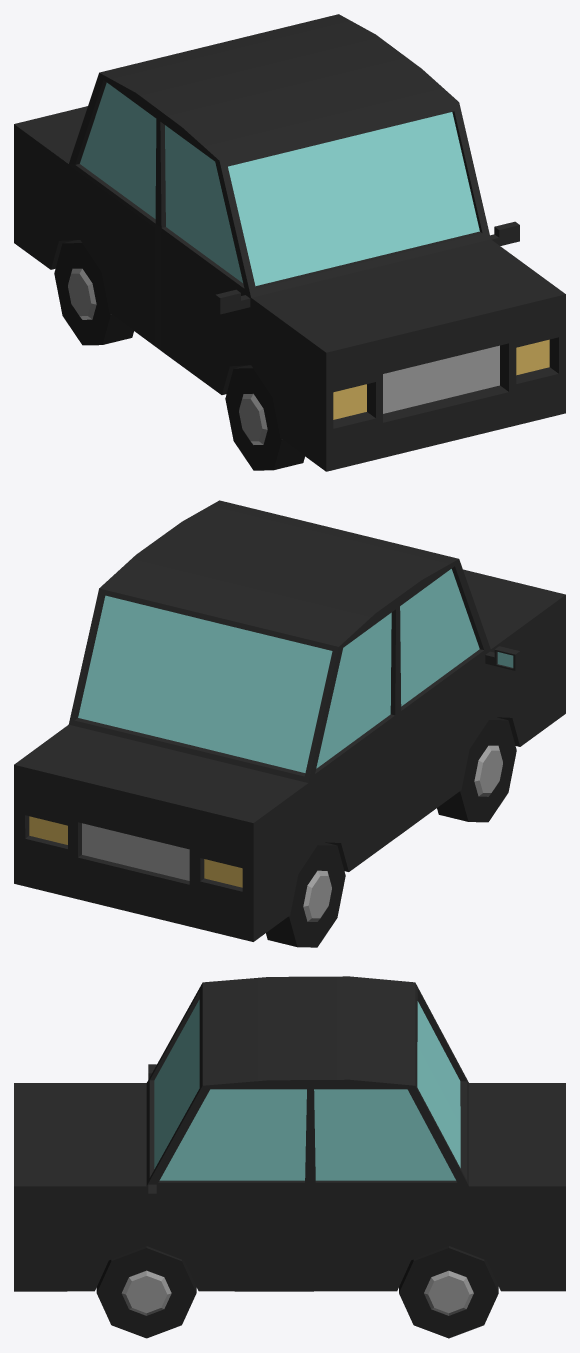
The model's file is Car_Black.fbx.
3 views of the same model, one above another, from view 1: azimuth 30°, elevation 25°; view 2: azimuth 150°, elevation 25°; view 3: azimuth 270°, elevation 25° (orthographic). The views are drawn at different scales.
Parts seen in each view (by area): view 1: pCube7; view 2: pCube7; view 3: pCube7.
Part boxes in pixels (x1,y1,x2,y2): pCube7: [14, 14, 565, 471]; pCube7: [14, 500, 565, 947]; pCube7: [14, 976, 565, 1338].
Bounding box in the file's own units: 165 × 154 × 297.
